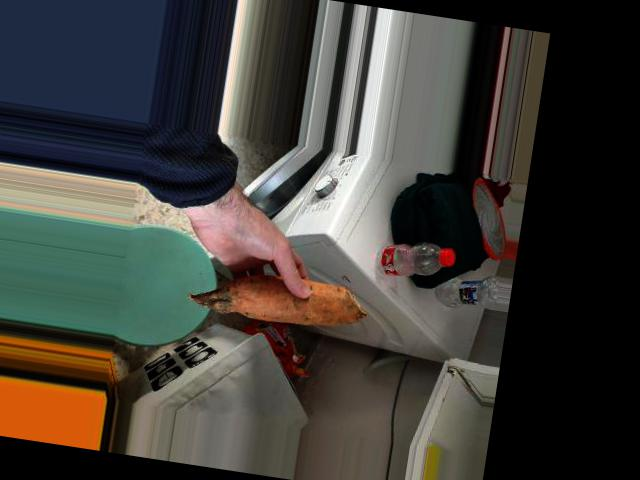sweet_potato: (192, 251, 350, 332)
